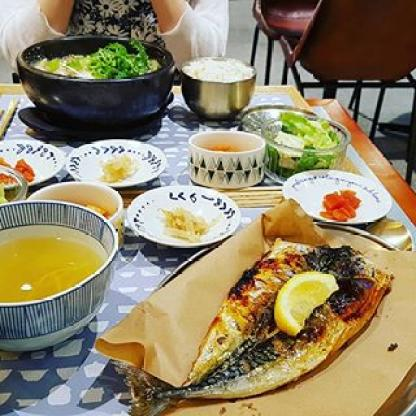Peixe: (123, 230, 396, 412)
